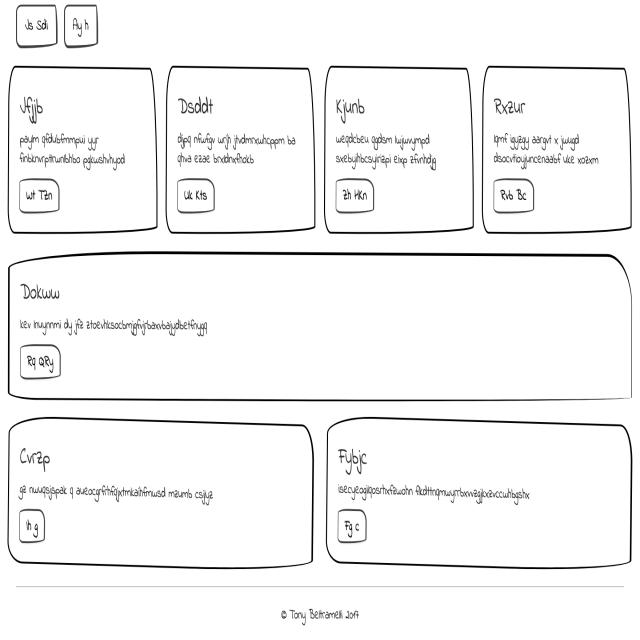Button: (173, 170, 219, 217), (490, 176, 538, 217), (18, 177, 65, 217), (332, 176, 377, 216), (17, 341, 62, 379), (336, 512, 371, 548), (15, 509, 48, 545)
Card: (5, 248, 636, 409), (328, 415, 637, 573), (7, 420, 315, 575), (482, 62, 636, 244), (6, 59, 161, 238), (165, 62, 316, 238), (322, 64, 474, 236)
Footer: (2, 586, 640, 640)
Heading 6: (19, 277, 65, 310), (176, 89, 218, 121), (334, 93, 376, 125), (336, 439, 371, 476), (17, 440, 57, 472), (492, 93, 532, 124), (17, 87, 50, 124)
Navigation Bar: (15, 1, 105, 56)
Paragraph: (16, 473, 215, 508), (336, 477, 538, 510), (16, 307, 216, 340), (17, 126, 133, 176), (177, 126, 299, 170), (333, 126, 440, 175), (492, 128, 604, 170)
